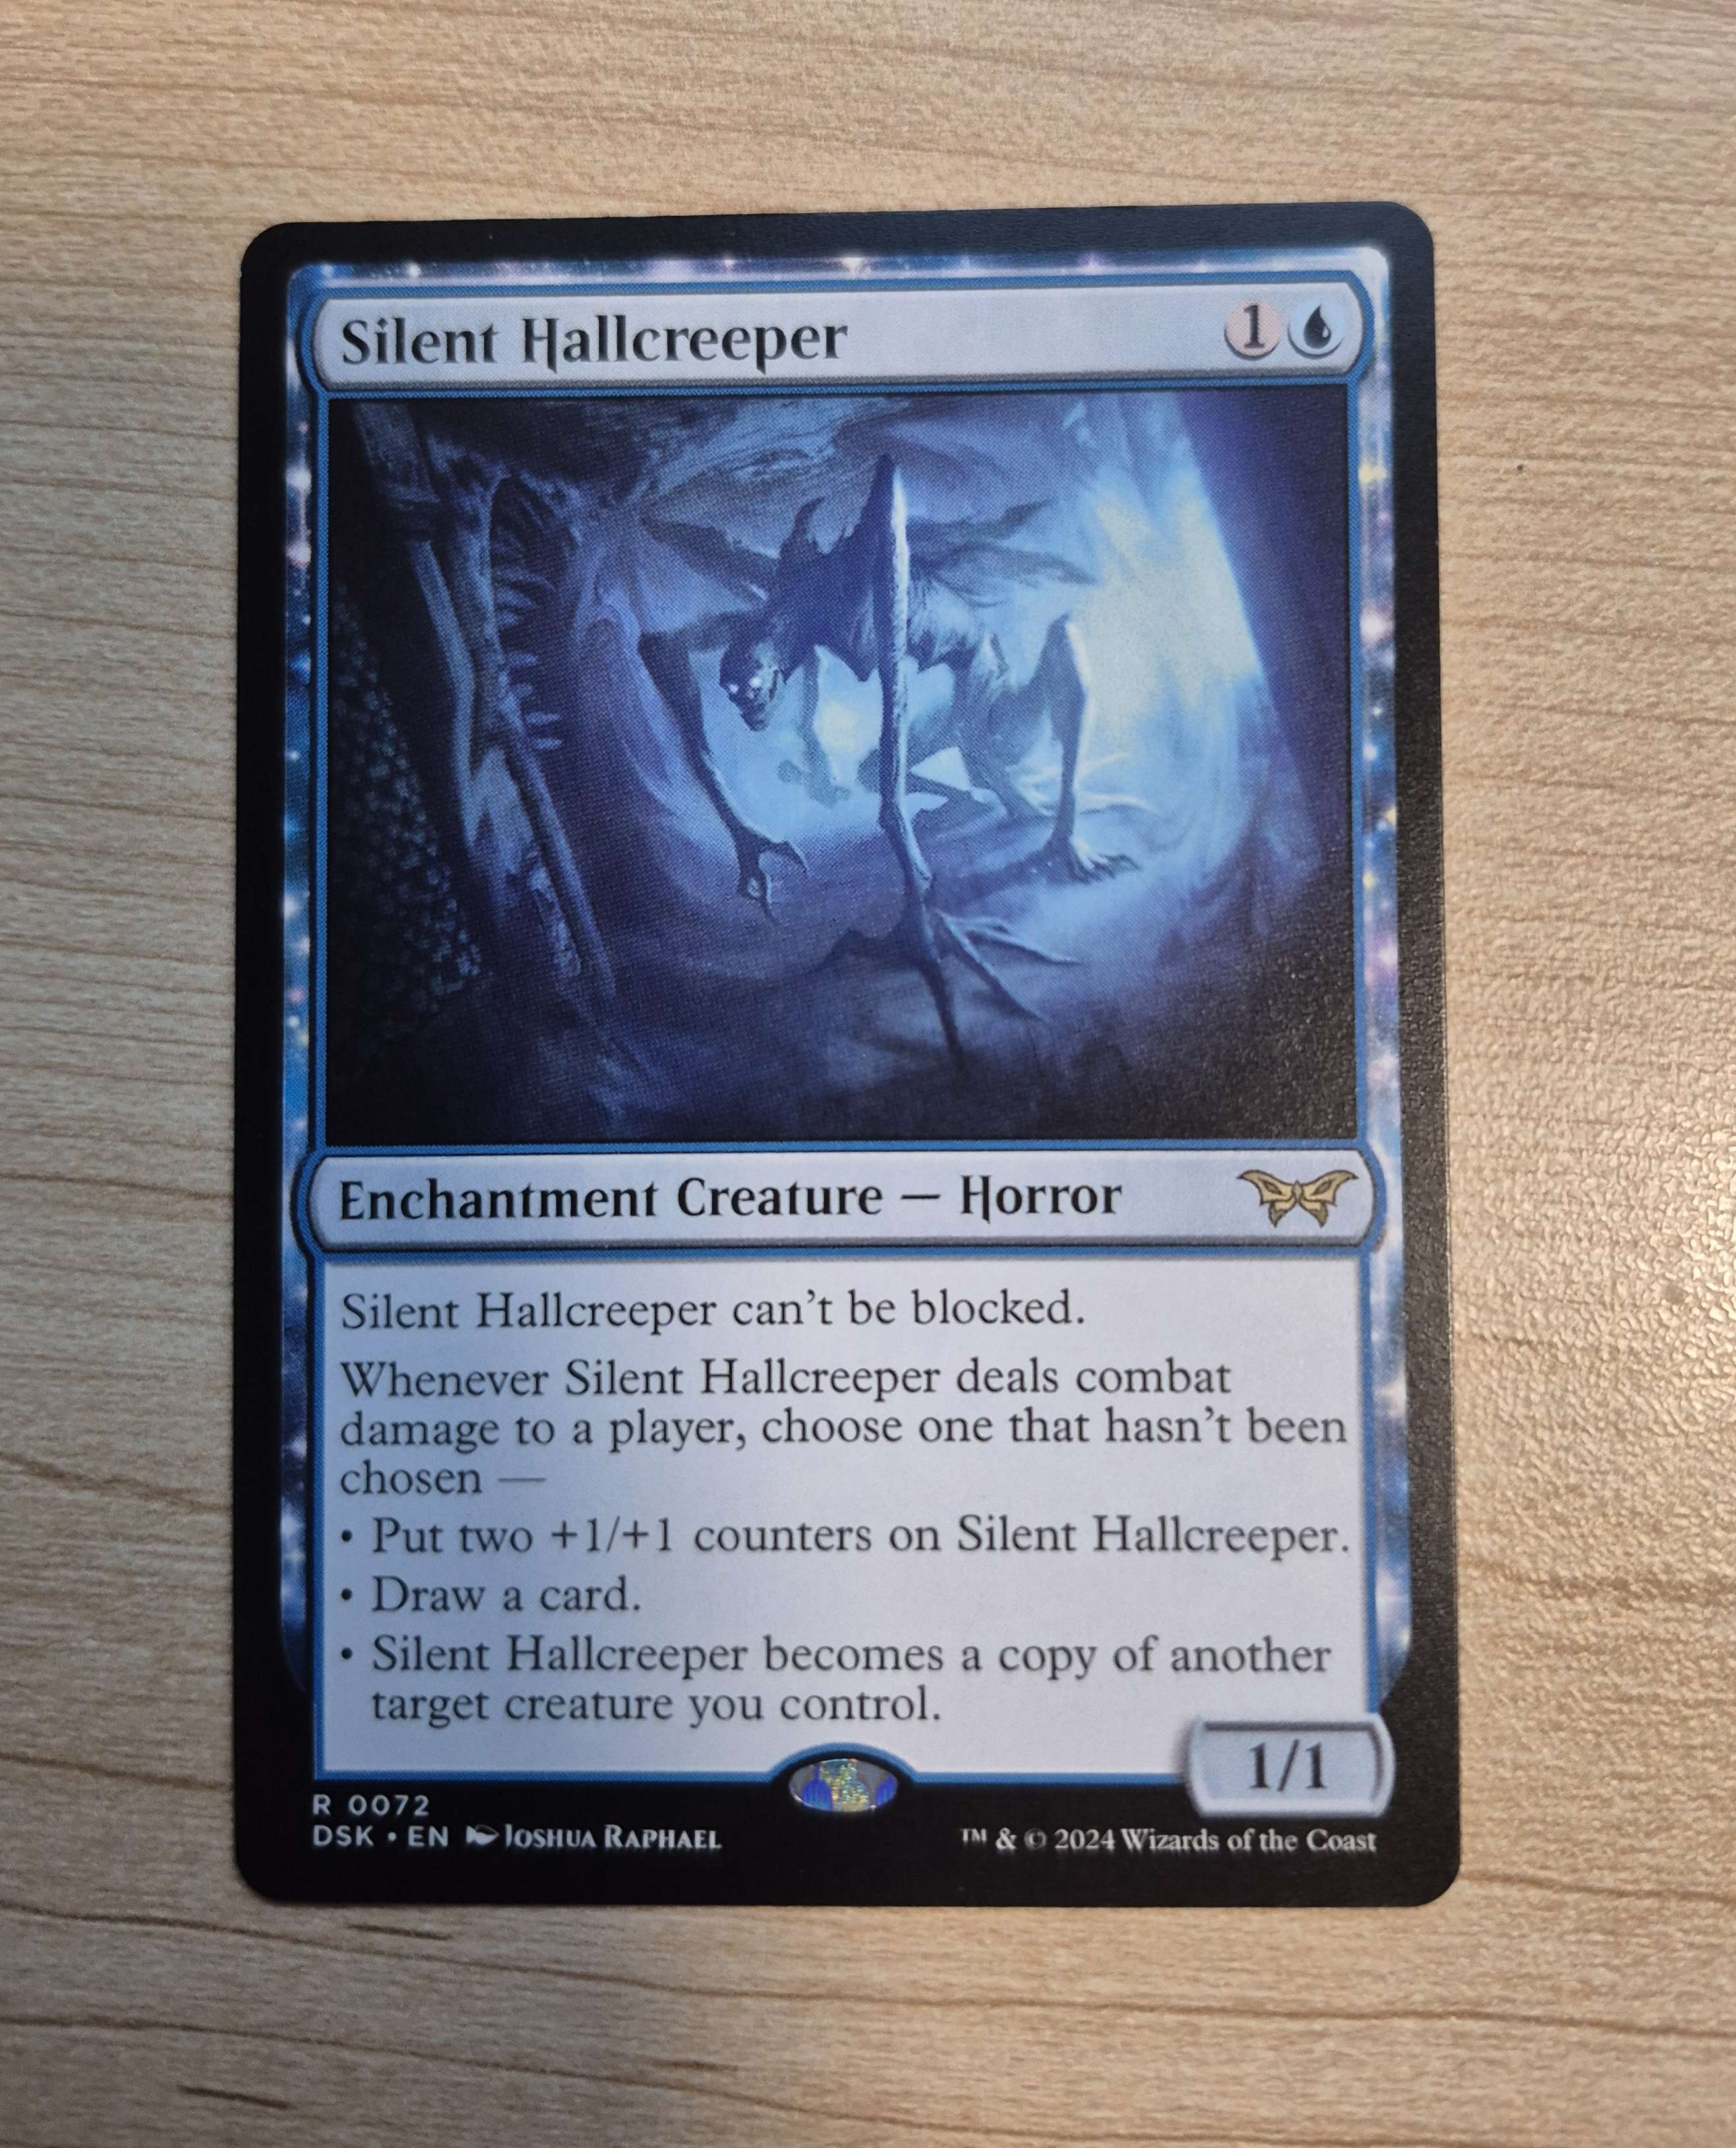mtg_card: (257, 220, 1477, 1965)
